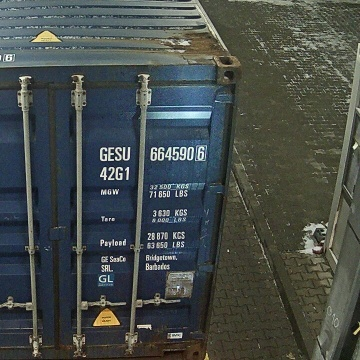serial_id: (99, 146, 205, 161)
